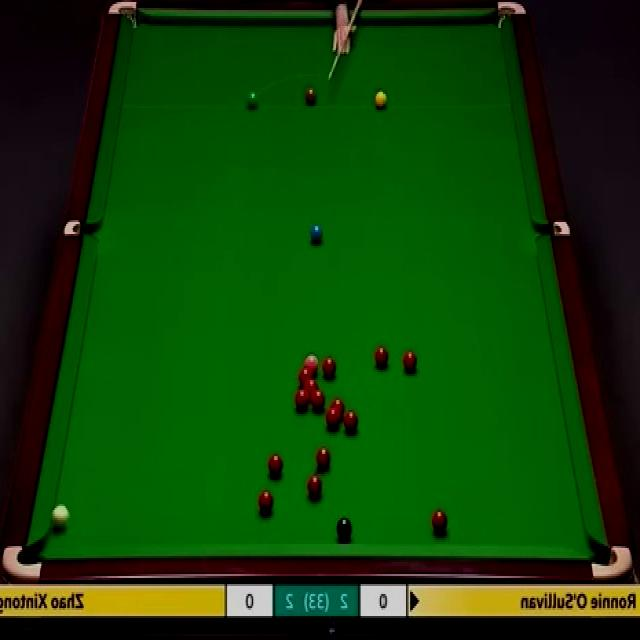black-ball: (336, 514, 354, 538)
blue-ball: (310, 225, 324, 242)
brown-ball: (305, 88, 316, 106)
green-ball: (245, 88, 260, 110)
pink-ball: (304, 354, 319, 374)
red-ball: (267, 452, 284, 477), (431, 511, 448, 534), (298, 366, 315, 389), (316, 448, 332, 471), (258, 490, 273, 514), (321, 358, 339, 378), (344, 409, 359, 433), (374, 343, 389, 366), (402, 352, 418, 372), (294, 388, 309, 408), (308, 476, 320, 500), (331, 398, 344, 418), (326, 408, 339, 428), (312, 389, 324, 408)
white-ball: (53, 504, 69, 528)
yellow-ball: (375, 90, 387, 110)
